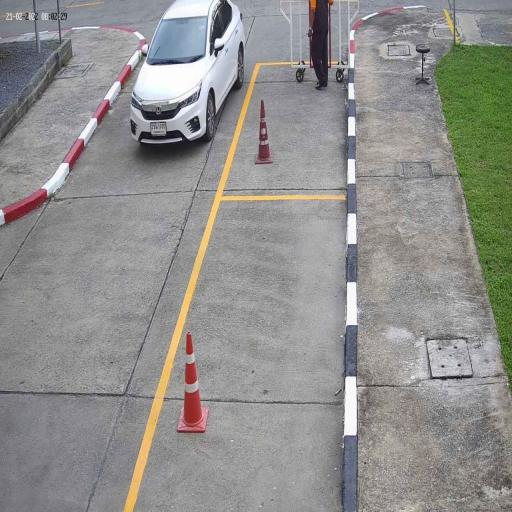car: (130, 0, 246, 146)
